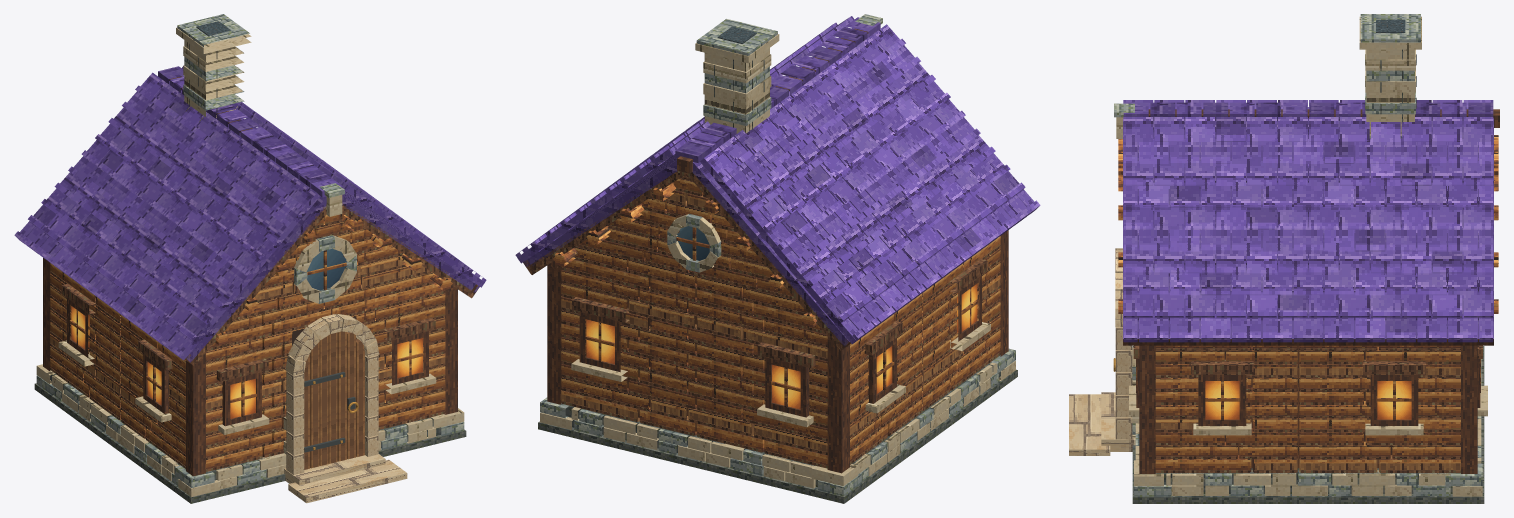
The picture shows the model from 3 angles, left to right: view 1: azimuth 30°, elevation 25°; view 2: azimuth 150°, elevation 25°; view 3: azimuth 270°, elevation 25°; orthographic projection. The views are drawn at different scales.
Visible parts, largest first — view 1: roof_geometry, roof_light_geometry, oak_geometry, oak_light_geometry, wood_geometry, stone_warm_geometry, roof_dark_geometry, wood_dark_geometry, stone_light_geometry, stone_dark_geometry, window_glow_geometry, wood_light_geometry (+10 smaller); view 2: roof_geometry, oak_geometry, roof_light_geometry, oak_light_geometry, wood_geometry, stone_warm_geometry, roof_dark_geometry, wood_dark_geometry, stone_light_geometry, stone_dark_geometry, wood_light_geometry, window_glow_geometry (+1 smaller); view 3: roof_geometry, roof_light_geometry, oak_geometry, oak_light_geometry, roof_dark_geometry, stone_warm_geometry, wood_geometry, wood_dark_geometry, stone_light_geometry, stone_dark_geometry, wood_light_geometry, window_glow_geometry (+2 smaller).
Boxes of the visible parts, x1,y1,x2,y2 form: roof_geometry: [14, 66, 484, 359]; roof_light_geometry: [21, 72, 486, 359]; oak_geometry: [50, 213, 445, 469]; oak_light_geometry: [50, 214, 452, 463]; wood_geometry: [50, 203, 475, 471]; stone_warm_geometry: [36, 27, 464, 496]; roof_dark_geometry: [26, 66, 479, 362]; wood_dark_geometry: [43, 76, 479, 476]; stone_light_geometry: [36, 14, 464, 487]; stone_dark_geometry: [34, 44, 466, 503]; window_glow_geometry: [71, 306, 422, 418]; wood_light_geometry: [50, 255, 445, 422]; roof_geometry: [517, 16, 1034, 344]; oak_geometry: [561, 174, 1000, 461]; roof_light_geometry: [515, 33, 1040, 338]; oak_light_geometry: [553, 178, 1000, 465]; wood_geometry: [527, 171, 1000, 468]; stone_warm_geometry: [540, 34, 1015, 488]; roof_dark_geometry: [523, 27, 1026, 346]; wood_dark_geometry: [523, 28, 1008, 473]; stone_light_geometry: [540, 14, 1015, 496]; stone_dark_geometry: [538, 59, 1017, 503]; wood_light_geometry: [561, 190, 1000, 452]; window_glow_geometry: [586, 284, 977, 409]; roof_geometry: [1123, 100, 1493, 342]; roof_light_geometry: [1124, 100, 1493, 342]; oak_geometry: [1136, 345, 1480, 472]; oak_light_geometry: [1118, 135, 1498, 463]; roof_dark_geometry: [1123, 100, 1493, 341]; stone_warm_geometry: [1116, 16, 1487, 496]; wood_geometry: [1133, 345, 1482, 472]; wood_dark_geometry: [1123, 109, 1499, 473]; stone_light_geometry: [1114, 14, 1482, 496]; stone_dark_geometry: [1132, 49, 1484, 503]; wood_light_geometry: [1155, 364, 1460, 472]; window_glow_geometry: [1205, 381, 1411, 419].
Size of the model in its own units: 5.36 by 5.94 by 5.76.
Materials: 18 (17 with a texture image).
